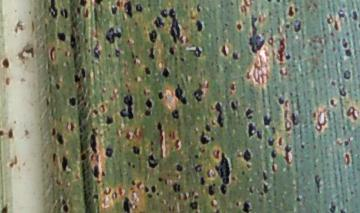tarspot: (246, 14, 265, 55), (168, 8, 184, 44), (214, 152, 230, 183), (119, 94, 134, 120), (156, 120, 165, 159), (16, 45, 35, 63), (213, 101, 225, 128), (174, 83, 188, 106), (89, 126, 99, 155), (105, 27, 121, 44), (192, 82, 204, 103), (345, 105, 358, 122), (146, 153, 159, 169), (283, 143, 292, 166), (245, 121, 257, 138), (122, 1, 134, 18), (152, 15, 165, 30), (92, 40, 102, 59), (199, 130, 210, 146), (122, 196, 132, 213), (48, 1, 57, 19), (47, 45, 57, 61), (314, 174, 322, 194), (338, 83, 348, 99), (60, 155, 69, 172), (59, 198, 69, 213), (290, 112, 300, 127), (148, 29, 158, 44), (55, 31, 68, 42), (131, 143, 141, 157), (192, 45, 202, 59), (292, 19, 302, 33), (243, 148, 252, 163), (219, 43, 228, 58), (328, 198, 337, 213), (244, 108, 255, 120), (194, 19, 204, 32), (262, 114, 272, 127), (68, 33, 76, 49), (91, 165, 100, 179), (147, 46, 156, 60), (325, 12, 334, 26), (103, 147, 114, 158), (159, 8, 169, 20), (161, 66, 170, 79), (56, 133, 65, 146), (342, 69, 352, 80), (193, 163, 203, 174), (109, 6, 119, 17), (144, 98, 153, 110), (219, 183, 228, 195), (59, 8, 68, 20), (241, 200, 249, 213), (79, 67, 87, 80), (332, 19, 340, 32), (266, 35, 274, 48), (231, 51, 241, 61), (267, 136, 276, 147), (72, 73, 81, 84), (113, 47, 122, 58), (287, 4, 294, 18), (174, 137, 181, 151), (7, 128, 15, 140), (207, 184, 214, 197), (351, 10, 358, 23), (171, 109, 180, 119), (229, 100, 238, 110), (171, 183, 181, 192), (143, 66, 152, 76), (134, 3, 144, 12), (90, 108, 100, 117), (105, 115, 113, 126), (68, 97, 76, 108), (2, 58, 10, 69), (337, 8, 345, 19), (261, 170, 268, 182), (340, 36, 347, 48), (189, 201, 198, 210), (1, 203, 9, 213), (255, 130, 263, 140), (199, 175, 206, 186), (277, 95, 284, 106), (195, 4, 202, 15), (262, 183, 269, 194), (175, 163, 183, 172), (100, 169, 108, 178), (69, 121, 75, 133), (235, 22, 242, 32), (168, 46, 175, 56), (270, 149, 277, 159), (329, 98, 336, 108), (50, 126, 57, 136), (79, 153, 87, 161), (246, 185, 254, 193), (80, 100, 88, 108), (143, 110, 152, 117), (157, 91, 164, 100), (229, 82, 236, 91), (295, 195, 302, 204), (51, 152, 57, 162), (204, 123, 211, 131), (284, 53, 291, 61), (143, 185, 150, 193), (129, 179, 136, 187), (91, 193, 99, 200), (93, 1, 104, 6), (178, 56, 185, 63), (54, 83, 61, 90), (345, 48, 351, 56), (79, 1, 87, 7), (150, 185, 156, 193), (115, 1, 121, 9), (293, 6, 299, 13), (284, 23, 290, 30), (146, 193, 153, 199), (299, 143, 305, 150), (234, 200, 240, 207), (338, 208, 346, 213), (1, 129, 5, 138), (157, 176, 163, 182), (245, 163, 251, 169), (193, 153, 198, 160), (214, 208, 220, 213), (274, 1, 281, 3), (266, 1, 271, 3)
